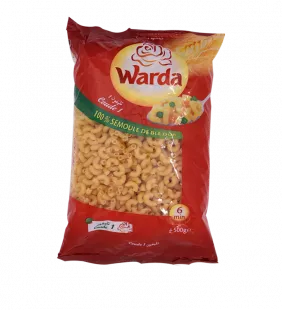LA ROSE BLANCHE: (51, 11, 237, 277)
